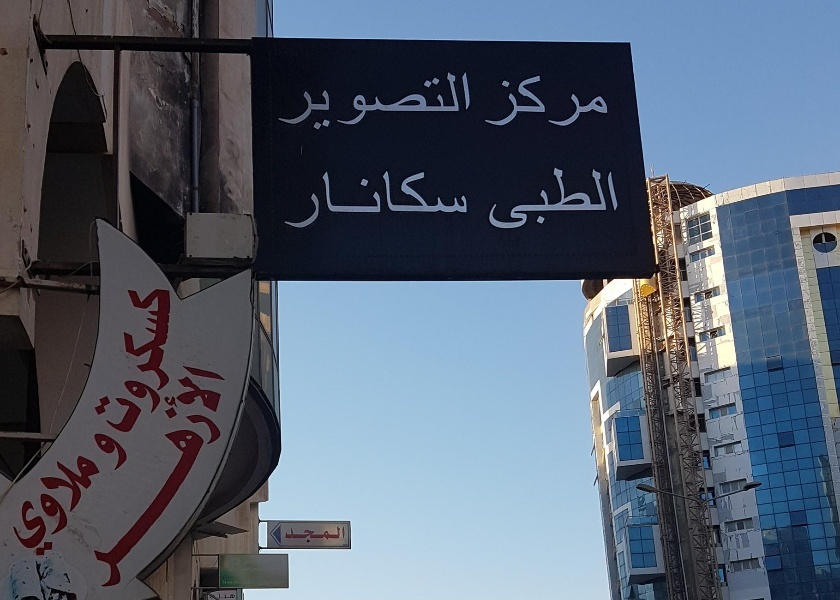text: (241, 361, 257, 600), (81, 361, 96, 600), (97, 361, 112, 600), (113, 361, 128, 600), (129, 361, 144, 600), (145, 361, 160, 600), (161, 361, 176, 600), (177, 361, 192, 600), (193, 361, 208, 600), (209, 361, 224, 600), (225, 361, 240, 600), (129, 285, 144, 442), (145, 285, 160, 442), (161, 285, 176, 442), (115, 285, 128, 442), (17, 440, 32, 567), (33, 440, 48, 567), (49, 440, 64, 567), (65, 440, 80, 567), (81, 440, 96, 567), (5, 440, 16, 567), (97, 440, 106, 567), (497, 167, 512, 231), (513, 167, 528, 231), (529, 167, 544, 231), (545, 167, 560, 231), (561, 167, 576, 231), (577, 167, 592, 231), (593, 167, 608, 231), (289, 168, 304, 230), (305, 168, 320, 230), (321, 168, 336, 230), (337, 168, 352, 230), (353, 168, 368, 230), (369, 168, 384, 230), (385, 168, 400, 230), (401, 168, 416, 230), (417, 168, 432, 230), (433, 168, 448, 230), (449, 168, 464, 230), (289, 71, 304, 132), (305, 71, 320, 132), (321, 71, 336, 132), (337, 71, 352, 132), (353, 71, 368, 132), (369, 71, 384, 132), (385, 71, 400, 132), (401, 71, 416, 132), (417, 71, 432, 132), (433, 71, 448, 132), (449, 71, 464, 132), (593, 75, 609, 128), (497, 75, 512, 128), (513, 75, 528, 128), (529, 75, 544, 128), (545, 75, 560, 128), (561, 75, 576, 128), (577, 75, 592, 128), (97, 425, 112, 476), (113, 425, 128, 476), (276, 71, 288, 132), (609, 167, 620, 231), (484, 75, 496, 128), (487, 167, 496, 231), (78, 361, 80, 600), (281, 168, 288, 230), (465, 71, 472, 132), (129, 425, 136, 476), (289, 526, 304, 544), (305, 526, 320, 544), (321, 526, 336, 544), (465, 168, 469, 230), (337, 526, 346, 544), (177, 285, 178, 442), (284, 526, 288, 544), (95, 425, 96, 476)
